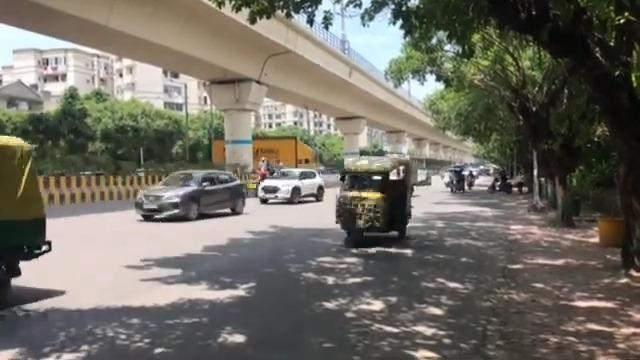Auto: (0, 132, 52, 307), (334, 152, 417, 244), (447, 164, 466, 195)
Bike: (487, 171, 512, 194)
Truck: (211, 135, 319, 174)
